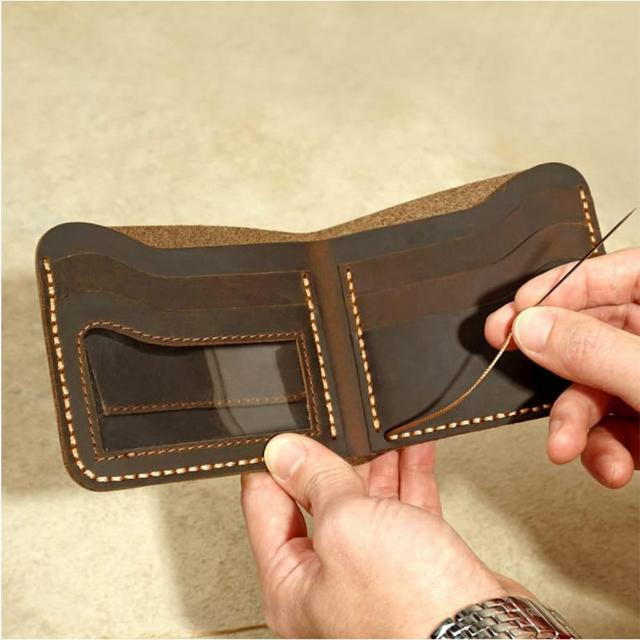wallet: (32, 158, 618, 492)
